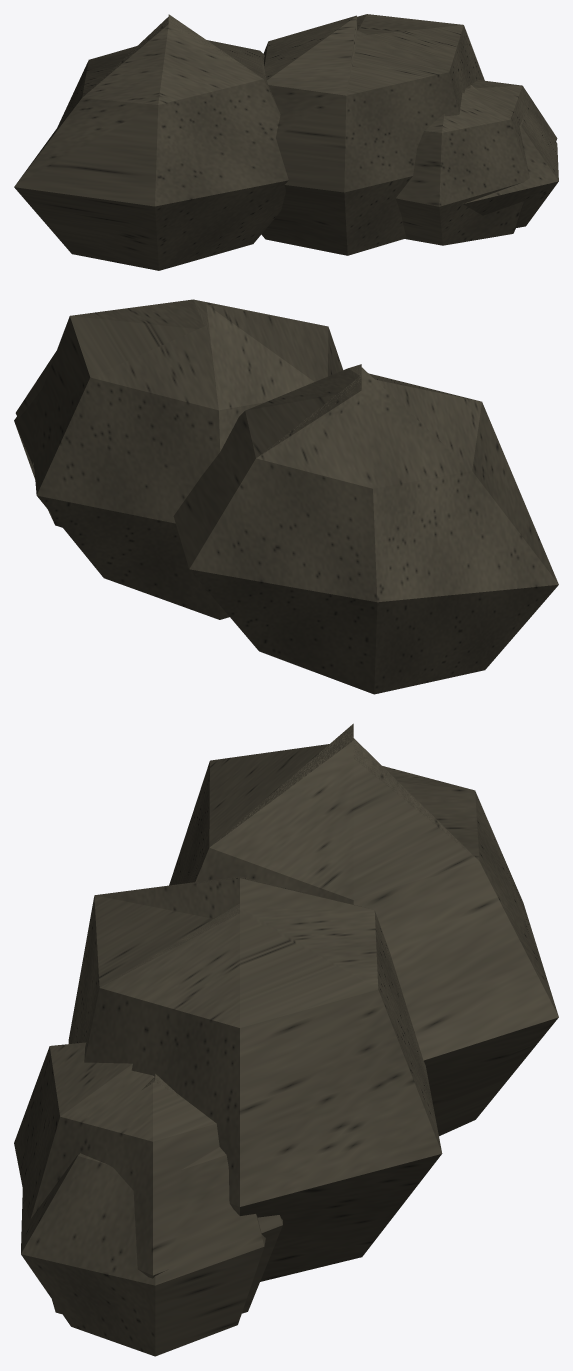
File: PROP-844848DA7F11_lod2.glb
3 renders of one model, top to bottom at view 1: azimuth 30°, elevation 25°; view 2: azimuth 150°, elevation 25°; view 3: azimuth 270°, elevation 25°, orthographic. The views are drawn at different scales.
Visible parts, largest first — view 1: rock.007; view 2: rock.007; view 3: rock.007.
Boxes of the visible parts, left/top/right/bottom form: rock.007: left=14, top=14, right=558, bottom=270; rock.007: left=14, top=299, right=558, bottom=694; rock.007: left=14, top=723, right=558, bottom=1356.
Bounding box in the file's own units: 1.93 × 0.8298 × 1.1.
1 material, 1 textured.
